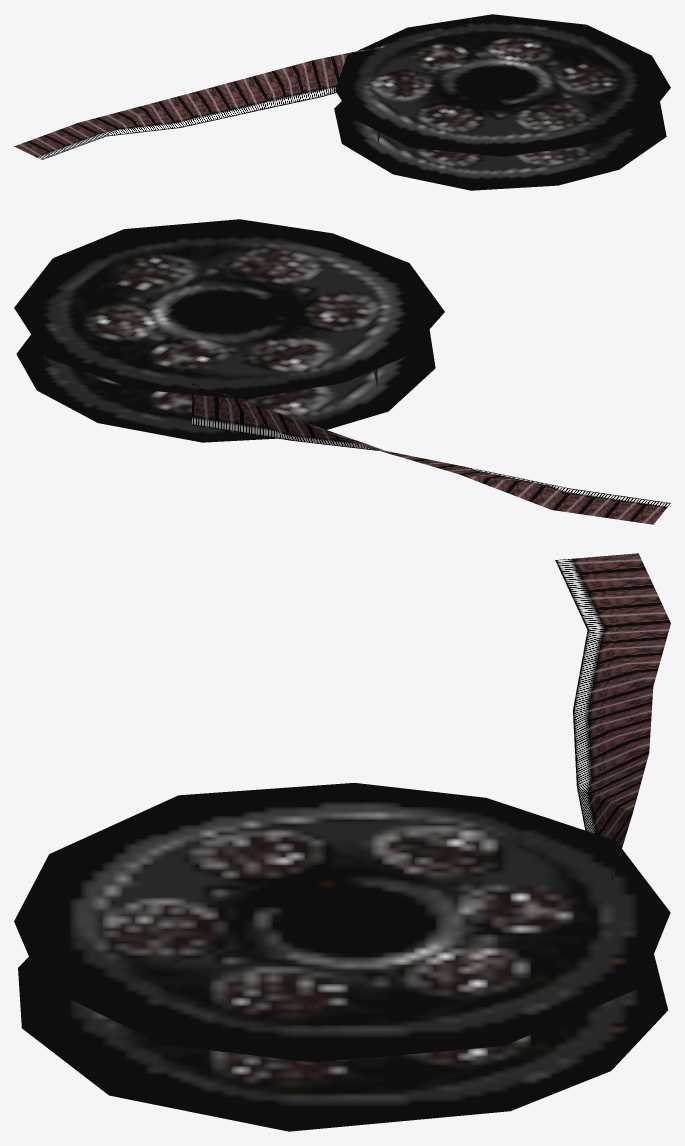
Rendered from filmroller_2741.glb.
3 views of the same model, one above another, from view 1: azimuth 30°, elevation 25°; view 2: azimuth 150°, elevation 25°; view 3: azimuth 270°, elevation 25° (orthographic). The views are drawn at different scales.
Parts seen in each view (by area): view 1: pPlaneShape1, pPlaneShape2, pPlaneShape3; view 2: pPlaneShape1, pPlaneShape2, pPlaneShape3; view 3: pPlaneShape1, pPlaneShape2, pPlaneShape3.
Part boxes in pixels (bbox=[...]): pPlaneShape1: bbox=[335, 14, 670, 156]; pPlaneShape2: bbox=[334, 101, 666, 190]; pPlaneShape3: bbox=[14, 44, 391, 159]; pPlaneShape1: bbox=[14, 219, 444, 399]; pPlaneShape2: bbox=[16, 330, 435, 442]; pPlaneShape3: bbox=[192, 383, 670, 524]; pPlaneShape1: bbox=[14, 783, 670, 1062]; pPlaneShape2: bbox=[18, 954, 667, 1131]; pPlaneShape3: bbox=[555, 553, 670, 882].
Size of the model in its own units: 0.2843 by 0.0176 by 0.1463.
Materials: 4 (4 with a texture image).
